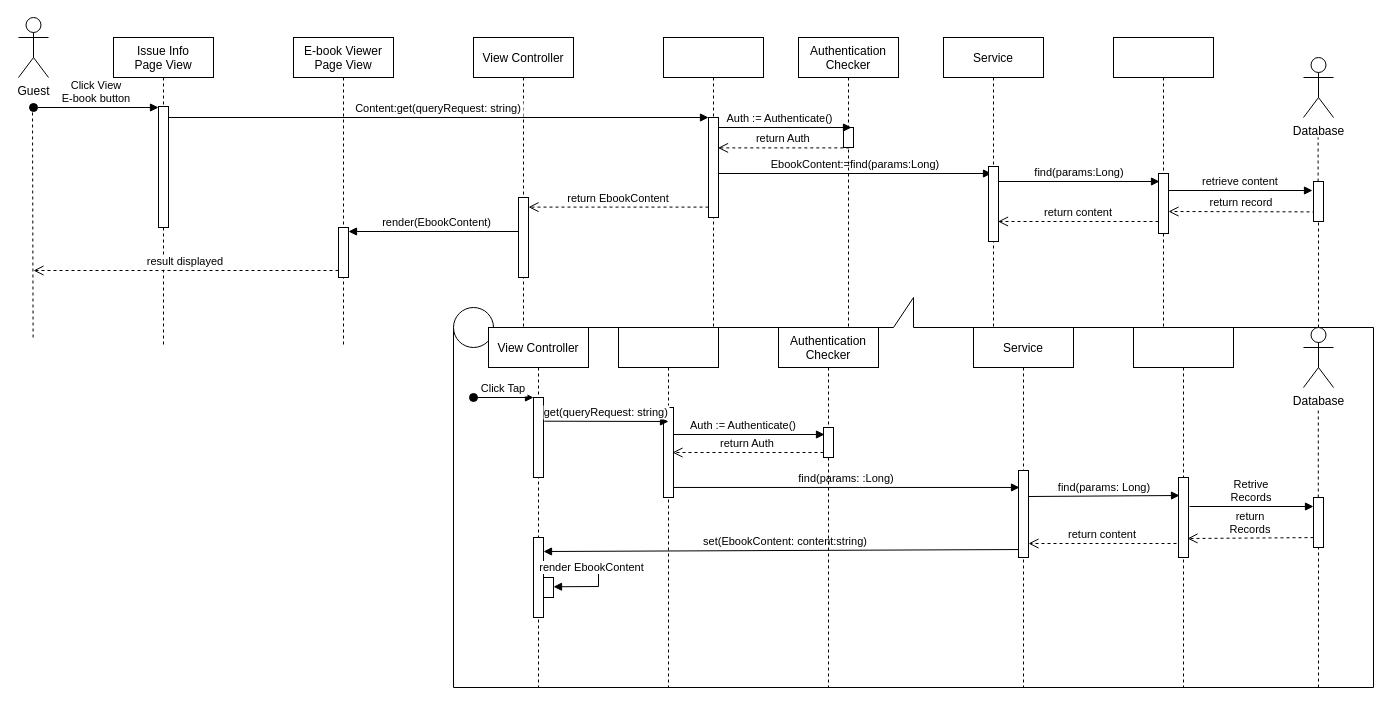
This 1391x706 diagram has some shape labels left out. The shapes that lost their labels are listed below. From the top down, each one's box as (x1, y1, x2, y2) in pixels, then its label:
(662, 36, 764, 338): :Controller
(1112, 36, 1214, 338): :Database Connection
(452, 306, 494, 348): V1
(618, 326, 718, 688): Controller
(1132, 326, 1234, 688): Database Connection
